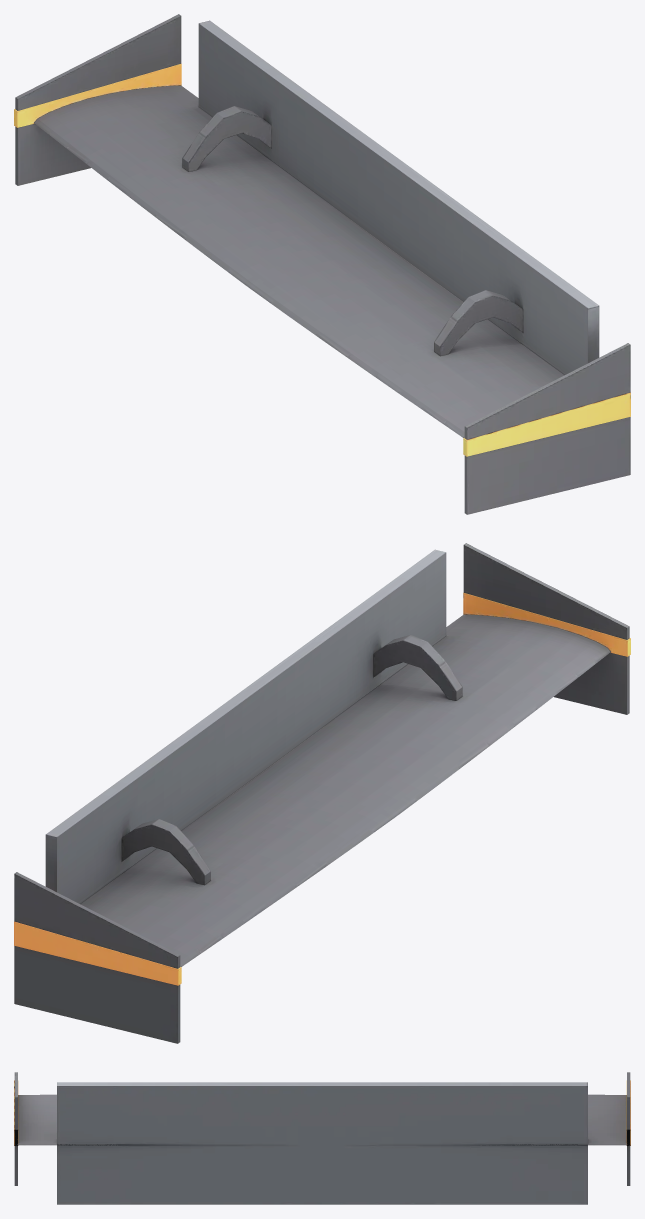
File: cafe-wing.glb
The picture shows the model from 3 angles, top to bottom: view 1: azimuth 30°, elevation 25°; view 2: azimuth 150°, elevation 25°; view 3: azimuth 270°, elevation 25°; orthographic projection. The views are drawn at different scales.
Parts seen in each view (by area): view 1: Cafe_Wing; view 2: Cafe_Wing; view 3: Cafe_Wing.
Boxes of the visible parts, box(x1,y1,x2,y2) form: Cafe_Wing: box(14, 14, 630, 514); Cafe_Wing: box(14, 543, 630, 1043); Cafe_Wing: box(14, 1072, 630, 1204).
Size of the model in its own units: 0.3169 by 0.32 by 1.51.
Materials: 1 (1 with a texture image).
